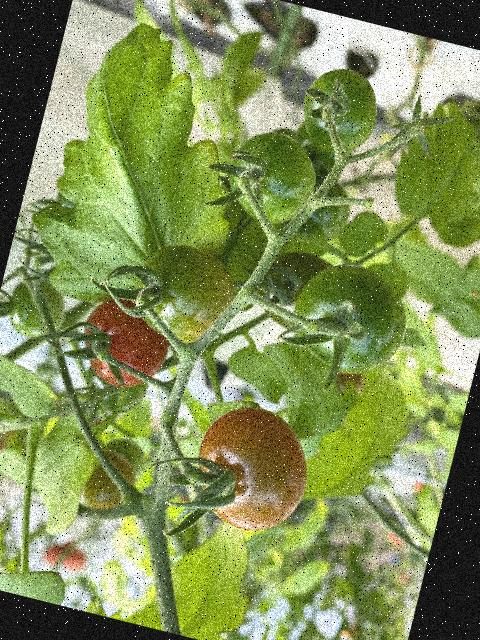l_fully_ripened: (74, 289, 178, 395)
l_green: (281, 252, 418, 384), (123, 235, 244, 354), (219, 123, 325, 235), (293, 61, 387, 163), (250, 243, 335, 338), (273, 164, 357, 253), (3, 270, 72, 344), (289, 118, 344, 175)
l_half_ripened: (182, 395, 321, 543), (78, 446, 142, 520)
